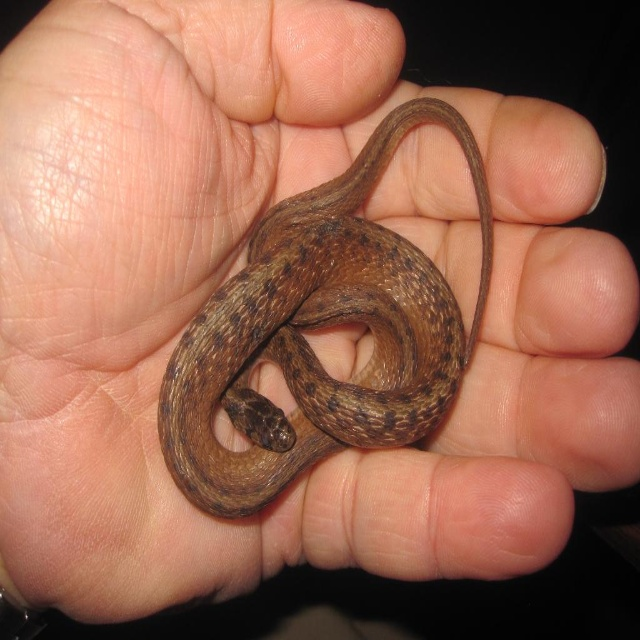Snake: (128, 70, 522, 532)
